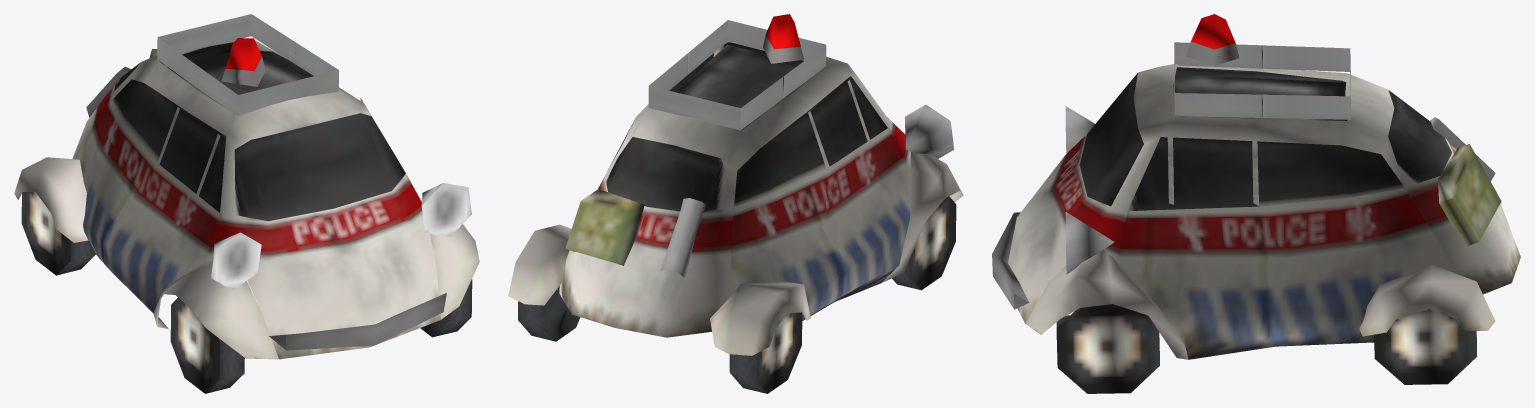
File: icon.ico.obj
3 renders of one model, left to right at view 1: azimuth 30°, elevation 25°; view 2: azimuth 150°, elevation 25°; view 3: azimuth 270°, elevation 25°, orthographic. The views are drawn at different scales.
Bounding box in the file's own units: 2.24 × 2.13 × 3.43.
1 material, 1 textured.
